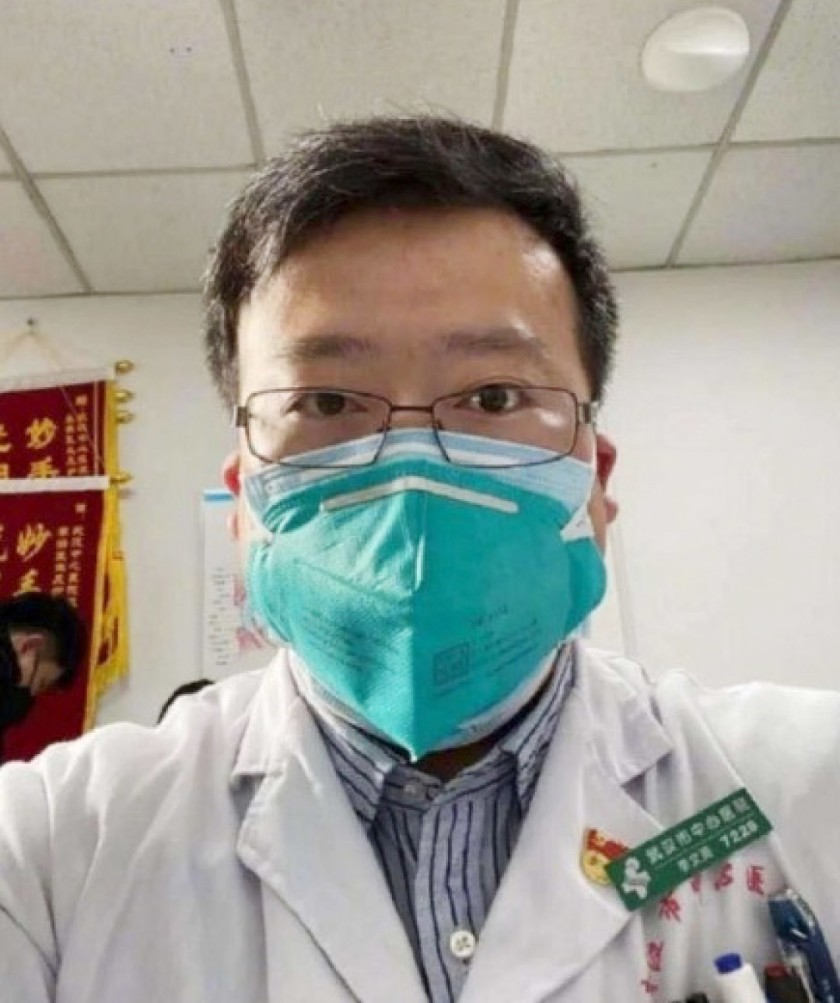n95: (225, 427, 607, 754)
